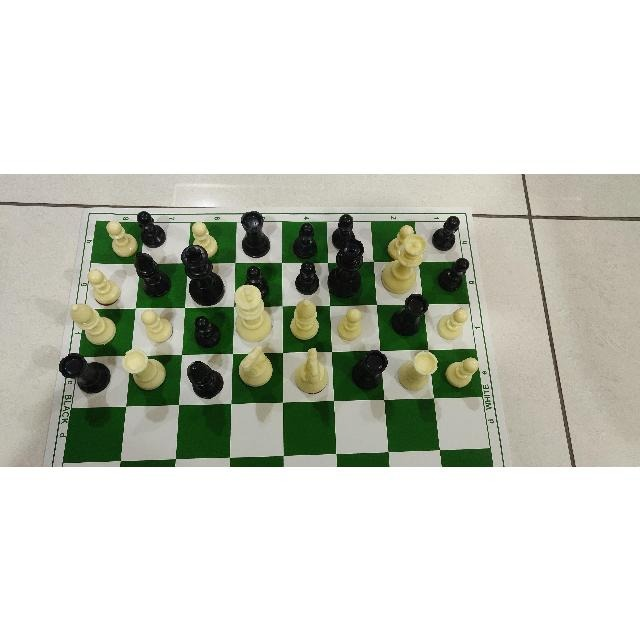black-bishop: (129, 246, 176, 303), (180, 356, 228, 402)
black-king: (175, 237, 227, 309)
black-pawn: (188, 306, 226, 353), (433, 252, 475, 294), (426, 209, 464, 252), (331, 211, 365, 259), (236, 258, 271, 304), (135, 207, 171, 251), (290, 255, 325, 298), (287, 220, 320, 264)
black-queen: (327, 236, 369, 300)
black-rook: (56, 346, 116, 404), (384, 289, 432, 343), (233, 202, 274, 263), (345, 342, 390, 393)
white-bishop: (64, 298, 119, 347), (286, 293, 320, 343)
white-king: (229, 281, 275, 344)
white-knight: (289, 344, 331, 398), (232, 342, 276, 392)
white-pawn: (442, 349, 484, 393), (180, 217, 223, 258), (433, 300, 472, 345), (83, 263, 123, 306), (137, 303, 175, 347), (99, 216, 140, 256), (385, 222, 422, 262), (333, 305, 367, 345)
white-queen: (378, 230, 427, 296)
white-rook: (121, 344, 171, 401), (396, 346, 440, 397)
